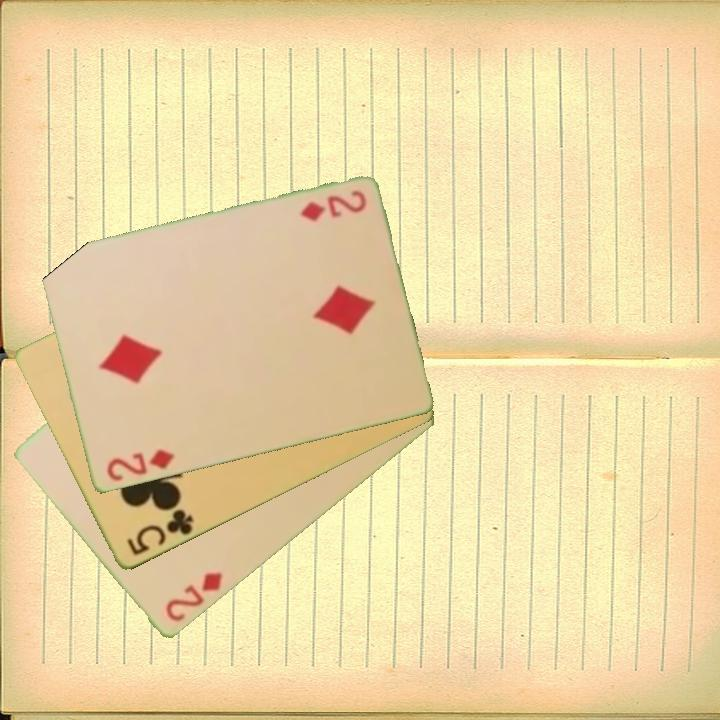2d: (162, 569, 225, 626), (103, 446, 177, 485), (296, 187, 369, 225)
5c: (123, 506, 197, 559)
